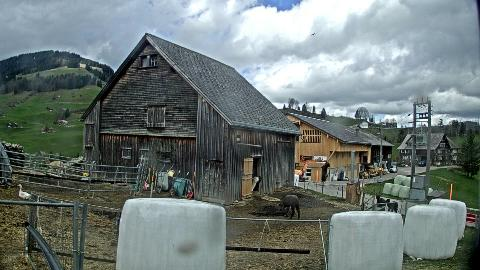car: (388, 165, 398, 173), (418, 161, 426, 167)
sheep: (278, 194, 300, 220), (44, 158, 64, 176), (374, 192, 386, 212), (386, 198, 398, 214), (252, 176, 260, 192), (254, 176, 262, 190)
